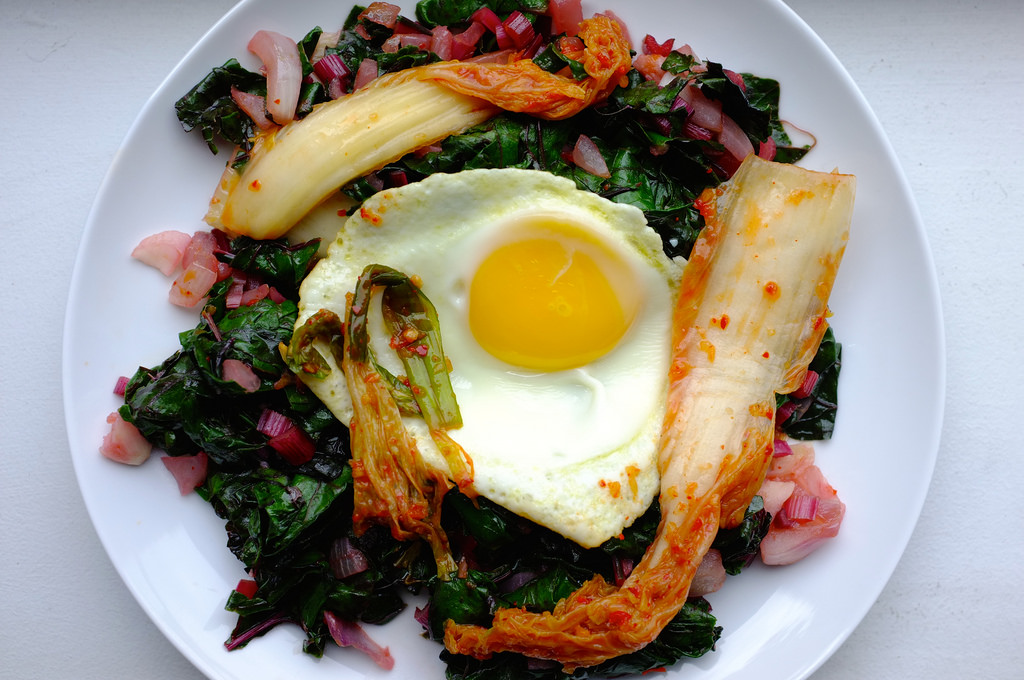fried egg: (325, 172, 682, 486)
